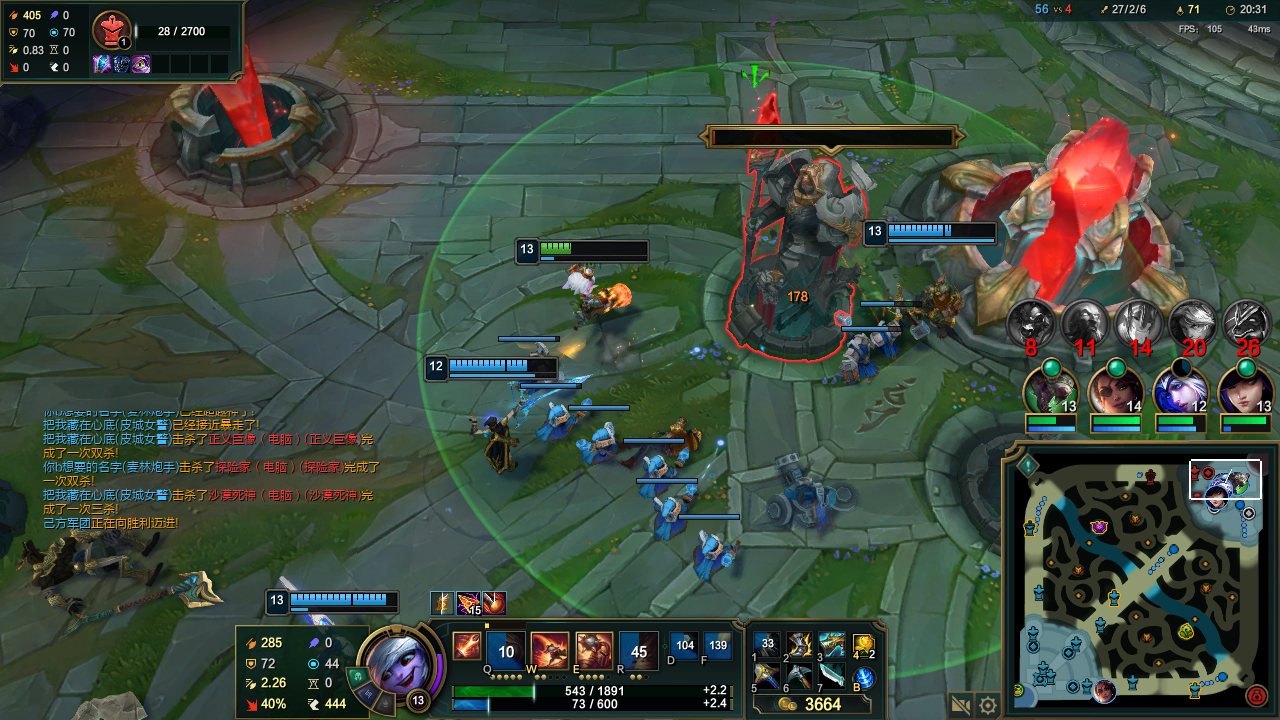DFDSJ: (975, 143, 1185, 301)
DFFYT: (717, 145, 860, 357)
WFXB: (677, 523, 751, 579), (642, 487, 708, 546), (570, 420, 636, 477), (625, 450, 694, 501), (867, 312, 918, 370), (833, 333, 889, 384), (535, 396, 593, 437)
